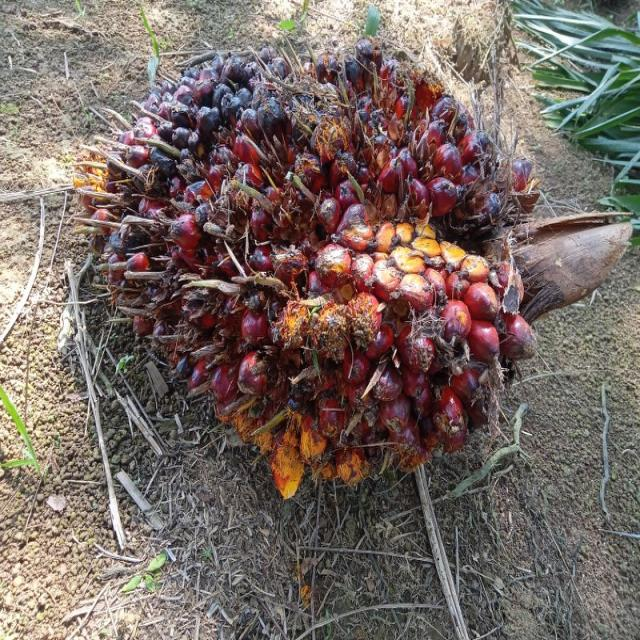fraksi 1: (84, 13, 570, 510)
